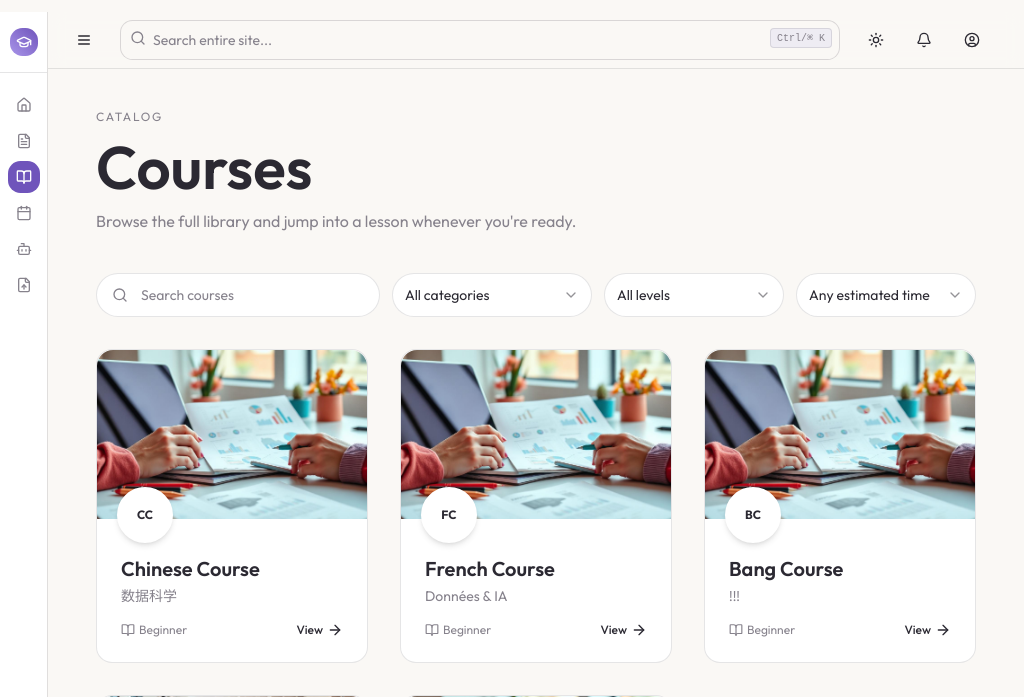
3. free-text stored names (synthetic; Builder Category is unrestricted text) › choosing Données & IA writes ?category=données-ia, shows only its card, and survives Back/Forward
The width and height of the screenshot is (1024, 697).
Later steps or results of the test are not shown.
What coordinates should you click on to do the following:
click the dropdown named "Category"
I would click on:
 (492, 295)
Its box is [392,273,592,317].
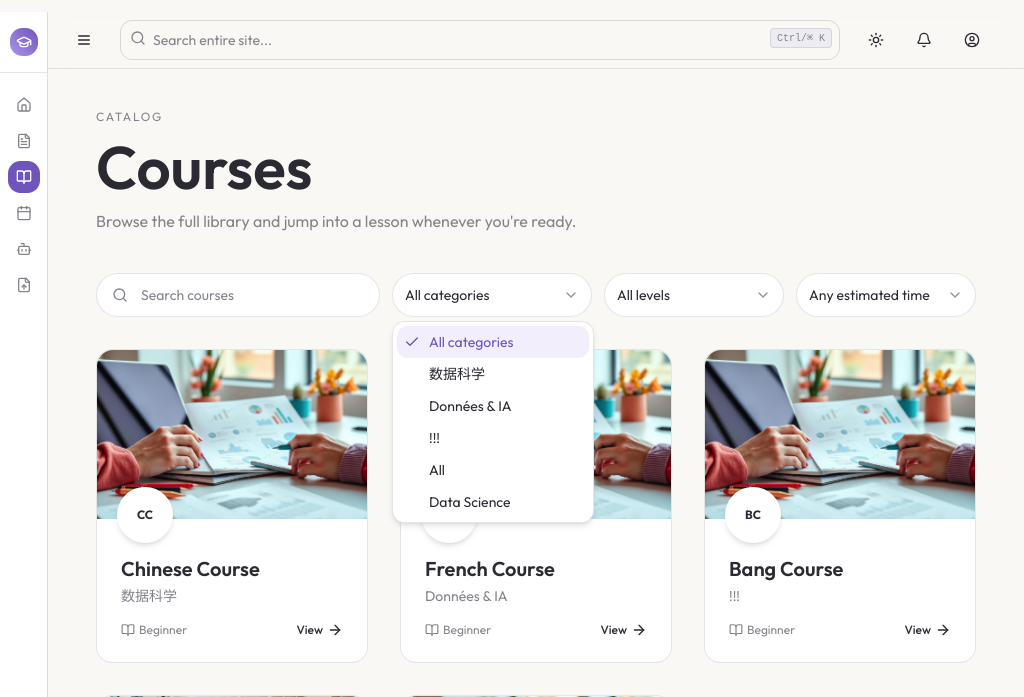
What coordinates should you click on to do the following:
click the option "Données & IA"
I would click on:
 (470, 406)
Its box is [429,397,512,415].
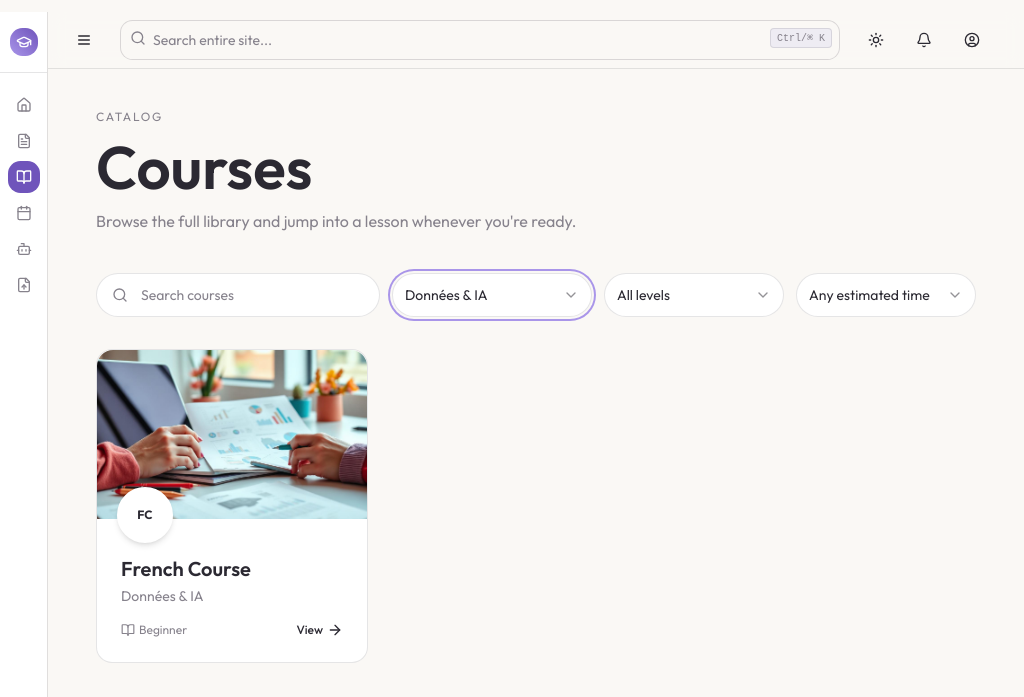
Result: the dropdown named "Category" reads "Données & IA" at [392,273,592,317]
